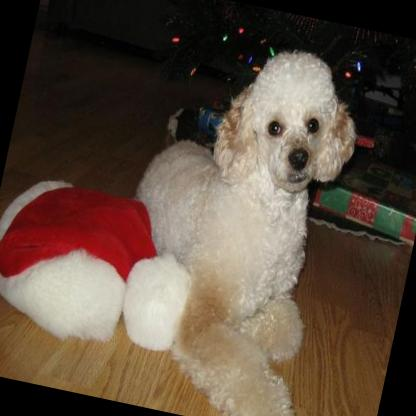miniature_poodle: (88, 18, 373, 416)
